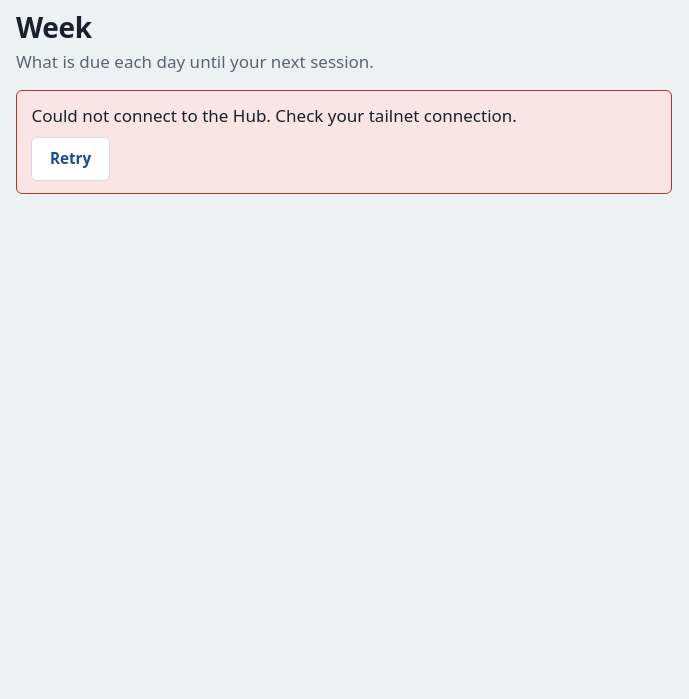
Test: Week screen › shows loading and, if the Hub fails, an error with retry that requests the plan again
The image size is (689, 699).
Later steps or results of the test are not shown.
Expected: the message "Could not connect to the Hub. Check your tailnet connection. Retry" is shown, [16,90,672,194]
What coordinates should you click on to do the following:
click the button "Retry"
I would click on:
 (71, 159)
Its box is [31,137,110,181].
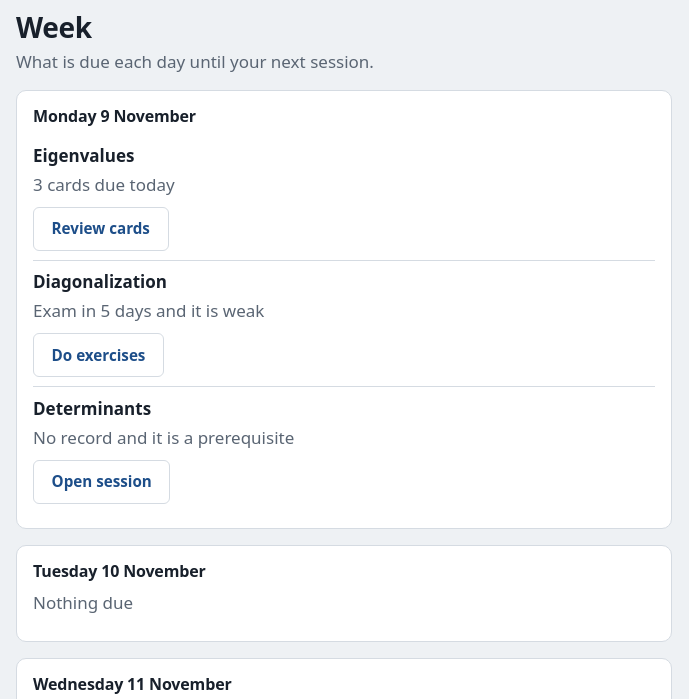
Result: the text "Eigenvalues" is shown at [33,144,134,167]
Result: the message "Could not connect to the Hub. Check your tailnet connection. Retry" is gone
